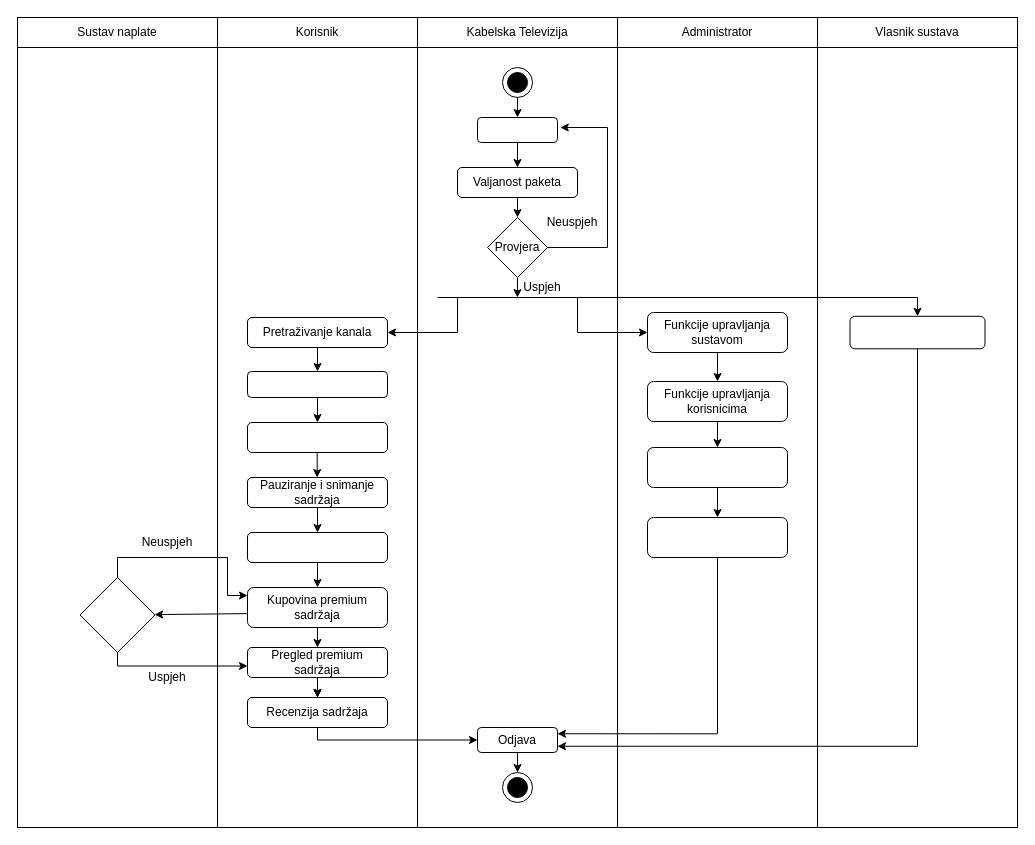
Image size: 1035x845. Some labels were removed from this diagram. Here are the shapes that lost their labels. From the top down, the box of each, then its label:
(476, 116, 558, 142): Prijava
(849, 315, 985, 349): Pregled izvještaja
(246, 370, 388, 398): Pretraživanje sadržaja
(246, 422, 388, 452): Pregled sadržaja
(646, 446, 788, 488): Funkcije upravljanja transakcijama
(246, 532, 388, 562): Pretraživanje premium sadržaja
(646, 516, 788, 558): Funkcije upravljanja recenzijama
(79, 576, 155, 652): Provjera plaćanja
